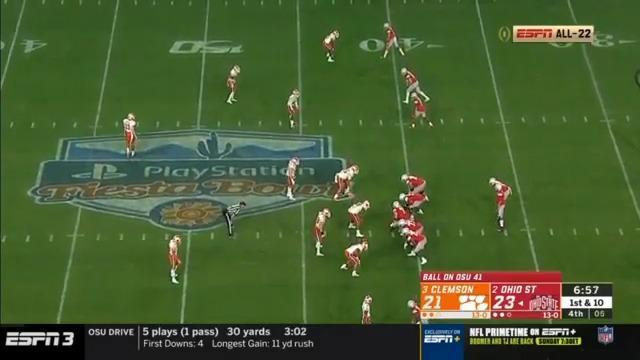defense: (313, 205, 335, 258), (340, 239, 369, 278), (333, 162, 360, 203), (283, 85, 305, 135), (164, 233, 184, 287), (122, 113, 143, 164), (347, 199, 372, 240), (283, 156, 303, 205), (222, 63, 242, 107), (321, 27, 340, 66), (361, 294, 375, 327)
oline: (405, 229, 430, 268), (401, 172, 429, 199), (402, 192, 427, 218), (389, 201, 413, 228), (396, 218, 426, 234)
qb: (492, 182, 509, 235)
ref: (222, 200, 247, 243)
skill: (401, 66, 433, 107), (380, 20, 408, 61), (408, 92, 436, 131), (408, 298, 430, 325), (489, 177, 511, 201)
